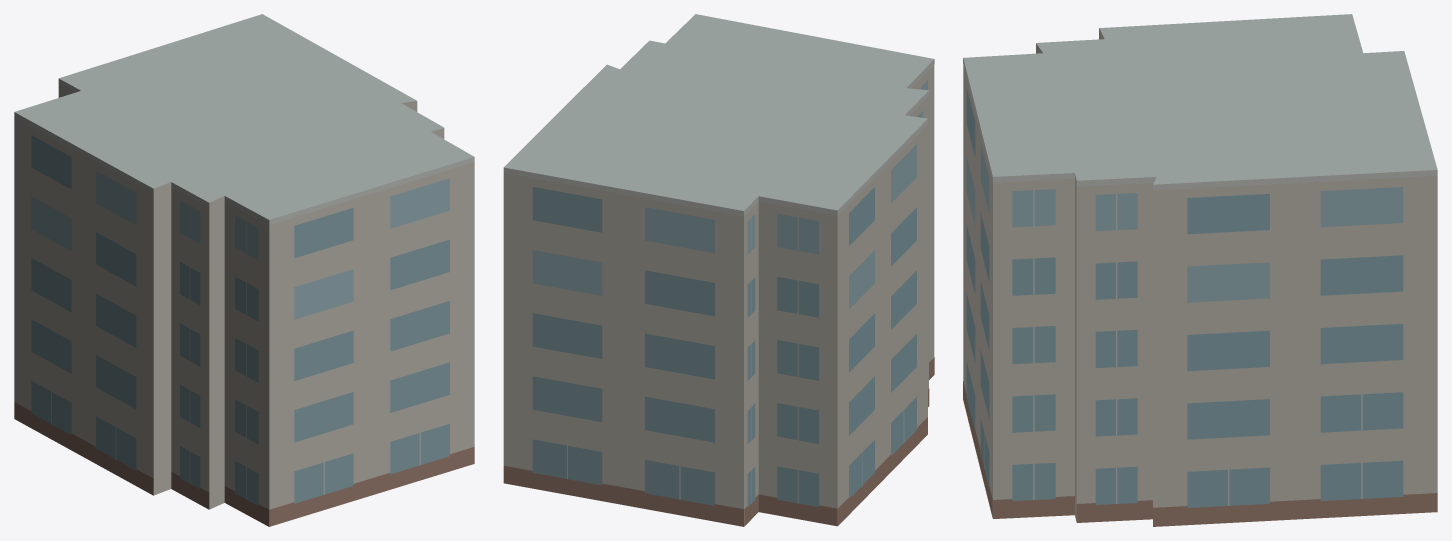
Rendered from survey-upis-32976128.glb.
The picture shows the model from 3 angles, left to right: view 1: azimuth 30°, elevation 25°; view 2: azimuth 150°, elevation 25°; view 3: azimuth 270°, elevation 25°; orthographic projection. The views are drawn at different scales.
Parts seen in each view (by area): view 1: survey-upis-32976128.tmp; view 2: survey-upis-32976128.tmp; view 3: survey-upis-32976128.tmp.
Part boxes in pixels (x1,y1,x2,y2): survey-upis-32976128.tmp: [14, 14, 474, 526]; survey-upis-32976128.tmp: [503, 14, 934, 526]; survey-upis-32976128.tmp: [963, 14, 1437, 526].
Bounding box in the file's own units: 15.52 × 14.5 × 18.23.
